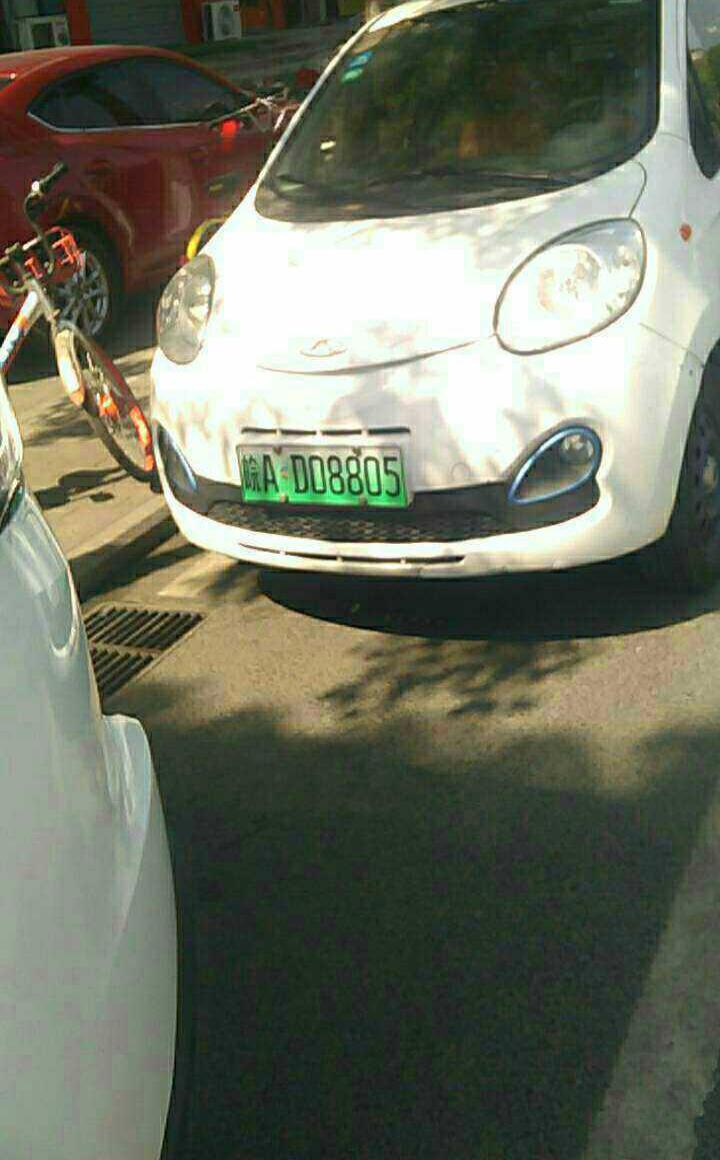car: (232, 444, 416, 511)
